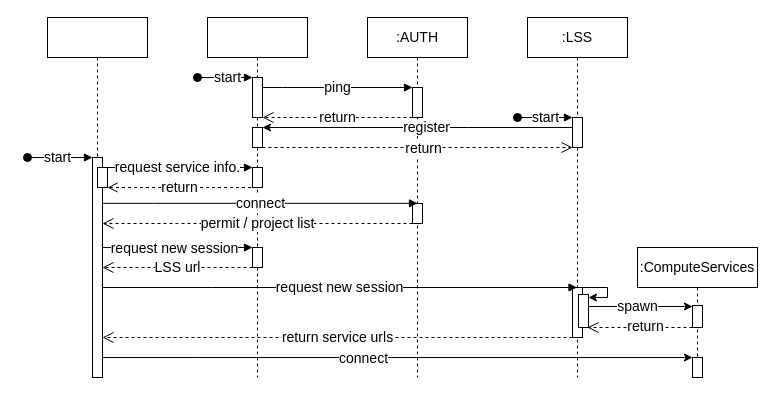
Image size: 775x395. Some labels were removed from this diagram. The box of each missing label's shape, as (x1, y1, x2, y2) in pixels:
:GSS: (206, 16, 308, 378)
:UIFrontend: (46, 16, 148, 378)
